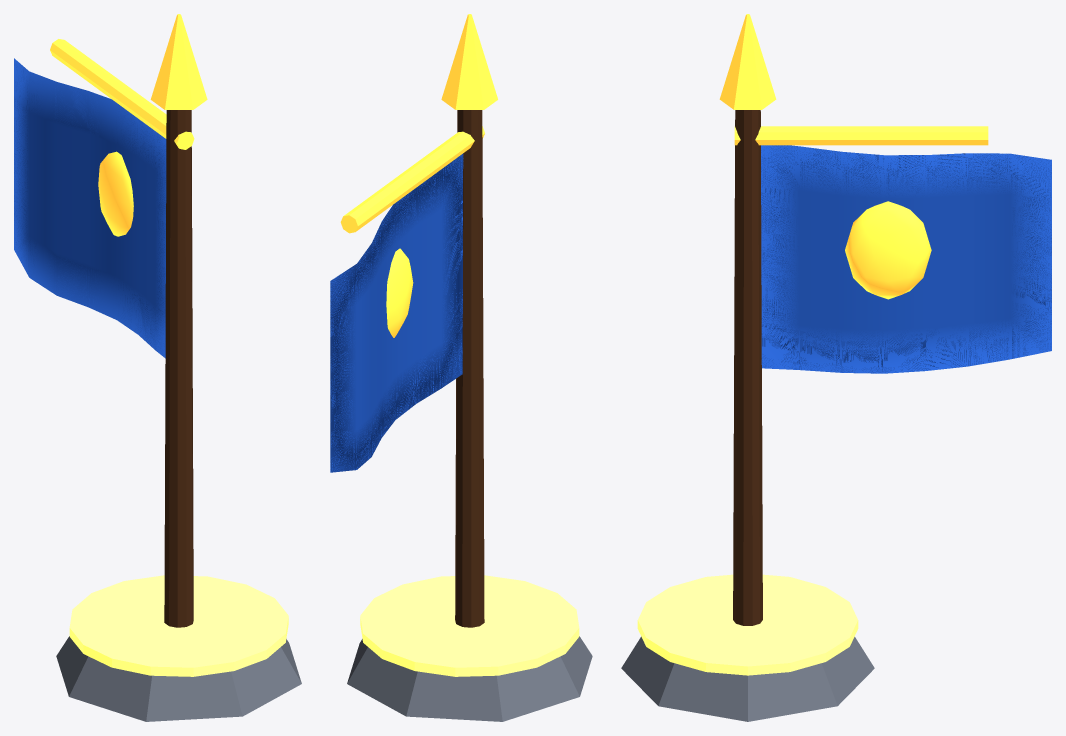
File: skill_royal_banner.glb
The picture shows the model from 3 angles, left to right: view 1: azimuth 30°, elevation 25°; view 2: azimuth 150°, elevation 25°; view 3: azimuth 270°, elevation 25°; orthographic projection.
Parts seen in each view (by area): view 1: RoyalPennant, GoldHaloRing, LanceShaft, RunePedestal, BannerCrossbar, SpearFinial, AcornEmblem; view 2: RoyalPennant, GoldHaloRing, LanceShaft, RunePedestal, BannerCrossbar, SpearFinial, AcornEmblem; view 3: RoyalPennant, GoldHaloRing, LanceShaft, RunePedestal, AcornEmblem, BannerCrossbar, SpearFinial.
Part boxes in pixels (x1,y1,x2,y2): RoyalPennant: (14,58,166,358); GoldHaloRing: (69,575,288,676); LanceShaft: (164,110,193,627); RunePedestal: (56,636,301,721); BannerCrossbar: (50,39,194,149); SpearFinial: (150,14,207,109); AcornEmblem: (98,151,133,236); RoyalPennant: (330,153,463,472); GoldHaloRing: (360,575,579,676); LanceShaft: (455,110,484,627); RunePedestal: (347,636,592,721); BannerCrossbar: (340,126,484,233); SpearFinial: (441,14,497,109); AcornEmblem: (386,248,413,337); RoyalPennant: (761,145,1051,373); GoldHaloRing: (637,574,858,675); LanceShaft: (733,110,762,625); RunePedestal: (621,636,874,721); AcornEmblem: (845,201,931,299); BannerCrossbar: (734,126,988,145); SpearFinial: (719,14,776,109).
Bounding box in the file's own units: 0.76 × 2.16 × 1.29.
